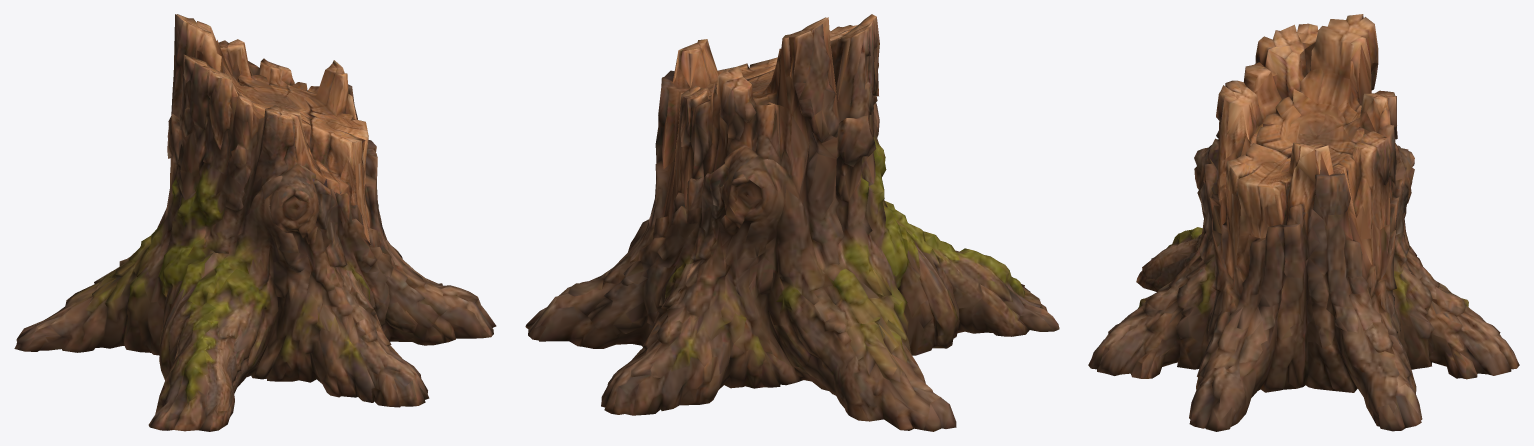
Rendered from stump-02.glb.
3 renders of one model, left to right at view 1: azimuth 30°, elevation 25°; view 2: azimuth 150°, elevation 25°; view 3: azimuth 270°, elevation 25°, orthographic. The views are drawn at different scales.
Visible parts, largest first — view 1: nebeljagd-tripo-stump-02; view 2: nebeljagd-tripo-stump-02; view 3: nebeljagd-tripo-stump-02.
Boxes of the visible parts, box(x1,y1,x2,y2) form: nebeljagd-tripo-stump-02: box(14, 14, 496, 431); nebeljagd-tripo-stump-02: box(525, 14, 1059, 431); nebeljagd-tripo-stump-02: box(1088, 14, 1519, 431).
Size of the model in its own units: 1.36 by 1.05 by 1.35.
1 material, 1 textured.
